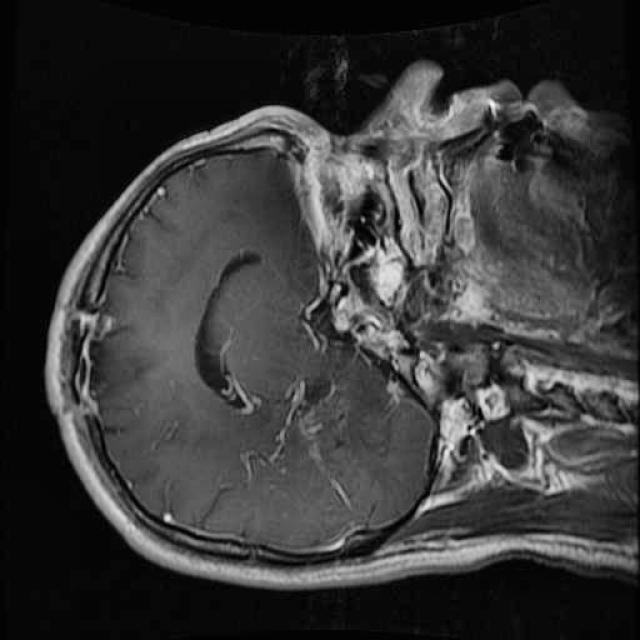Non-Tumor: (60, 289, 163, 414)
